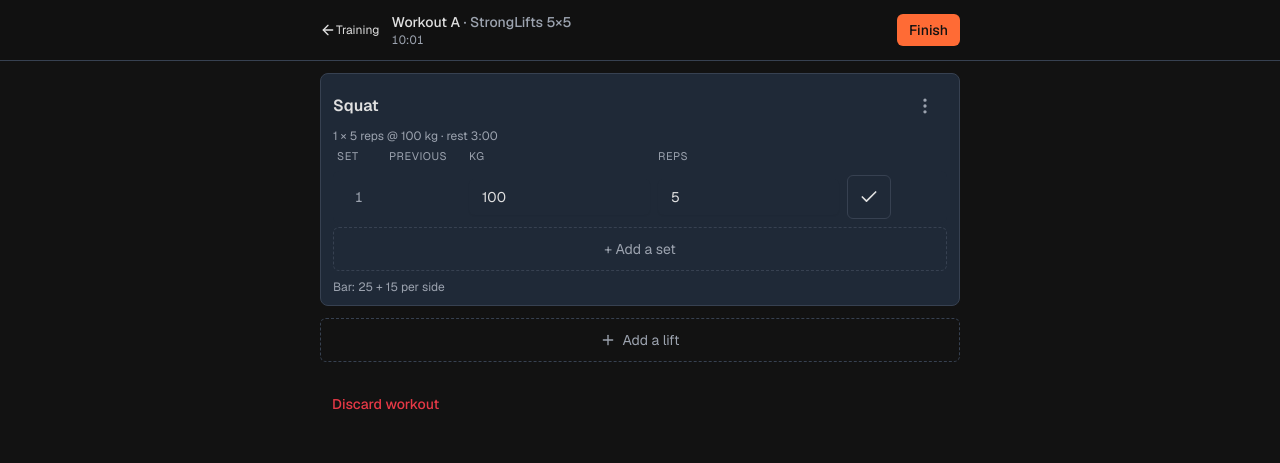
the live screen when the workout went away › closes the finish sheet, instead of leaving a Save that does nothing
The image size is (1280, 463).
Click the button with test id "finish-workout".
click(928, 30)  # box [897, 14, 960, 46]
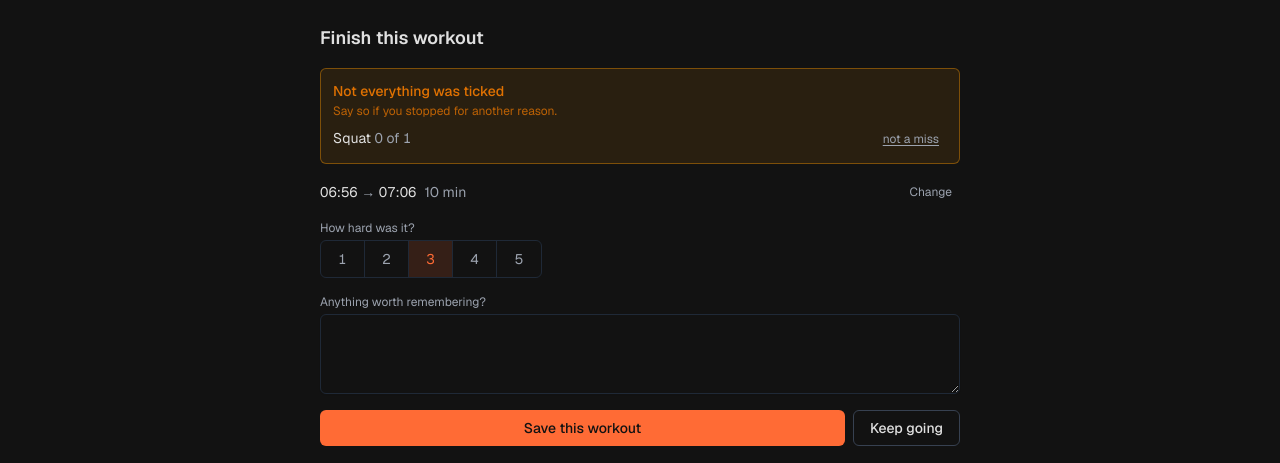
Click the button "Save this workout".
click(582, 428)  # box [320, 410, 845, 446]
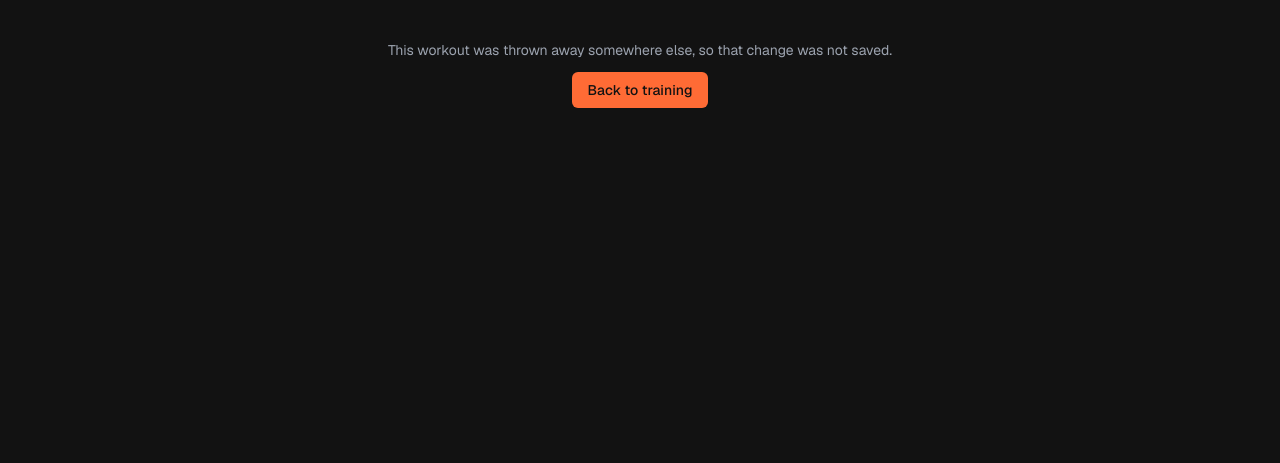
Expected: the text "This workout was thrown away somewhere else, so that change was not saved." is shown, [388, 41, 892, 59]
Expected: the button "Save this workout" is gone
Expected: the link "Back to training" is shown, [572, 72, 708, 108]
